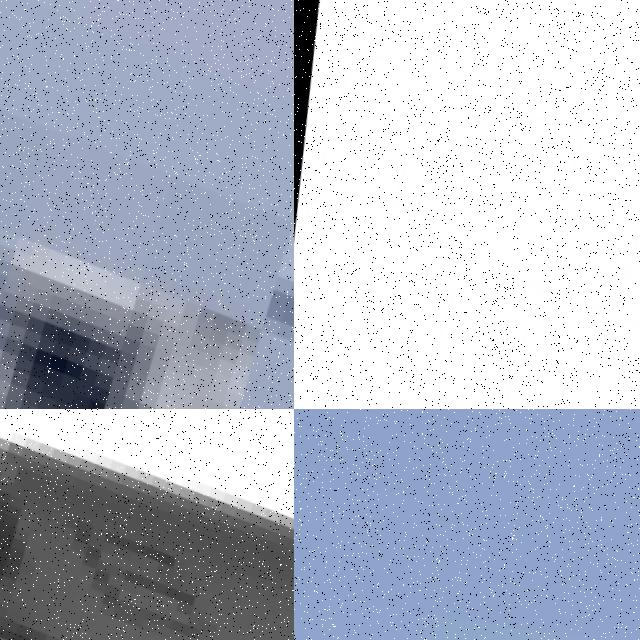drone: (294, 0, 640, 409), (0, 0, 294, 409), (0, 409, 294, 640)
